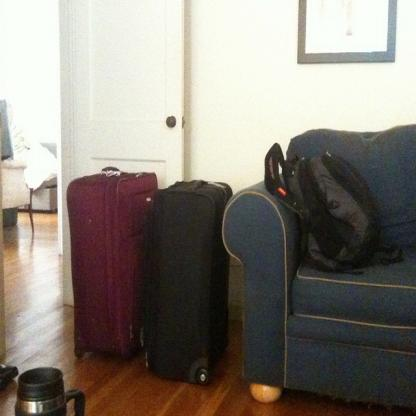backpack: (267, 142, 401, 275)
suitcase: (140, 177, 233, 387), (66, 167, 159, 360)
